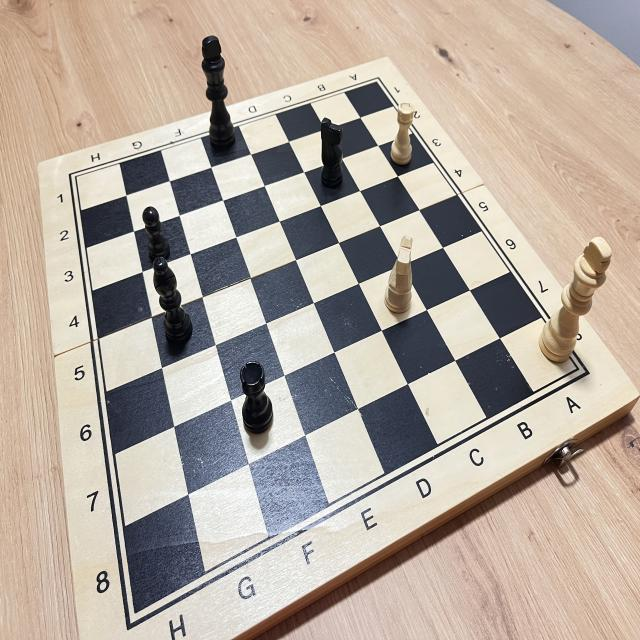black-bishop: (149, 254, 195, 350)
black-king: (197, 28, 237, 154)
black-knight: (314, 112, 352, 196)
black-pawn: (136, 200, 173, 268)
black-rook: (234, 353, 278, 442)
white-king: (534, 229, 618, 374)
white-knight: (378, 225, 420, 321)
white-rook: (387, 96, 418, 172)
